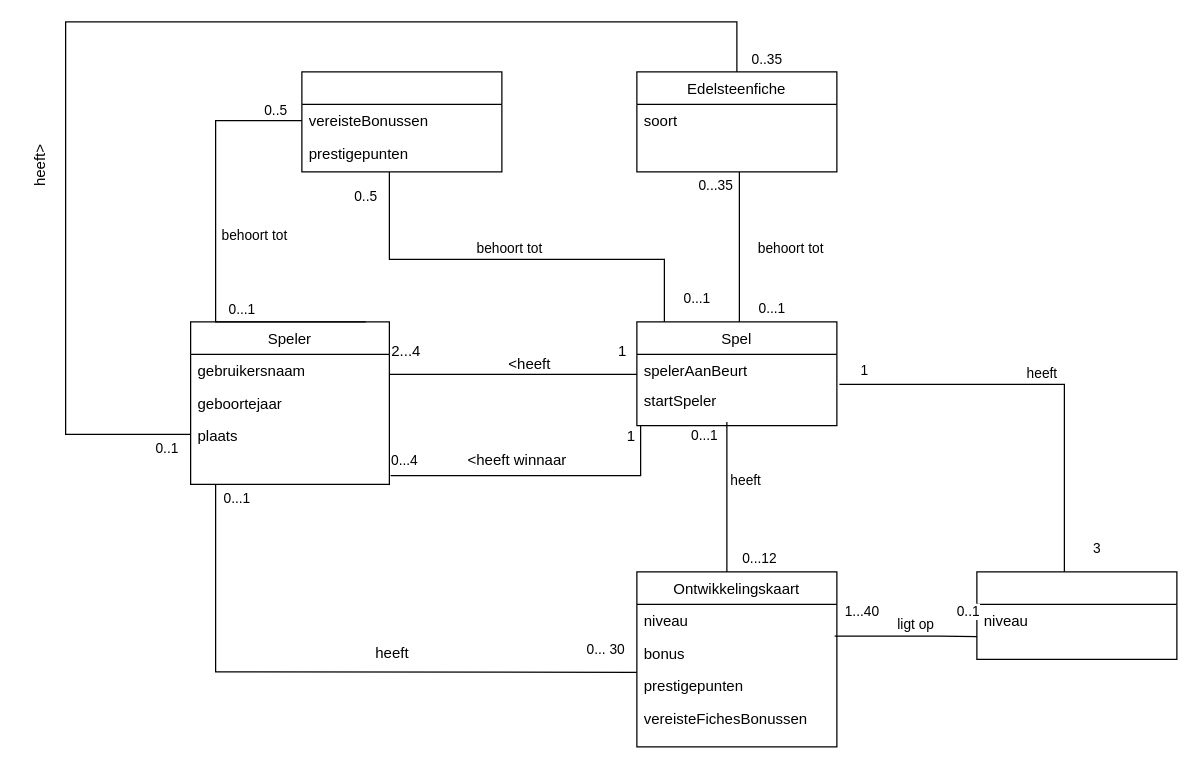
Image size: 1199x769. Some labels were removed from this diagram. Each missing label, with the box of its shape:
Edel: (301, 71, 502, 172)
GedekteStapel: (976, 571, 1177, 659)
